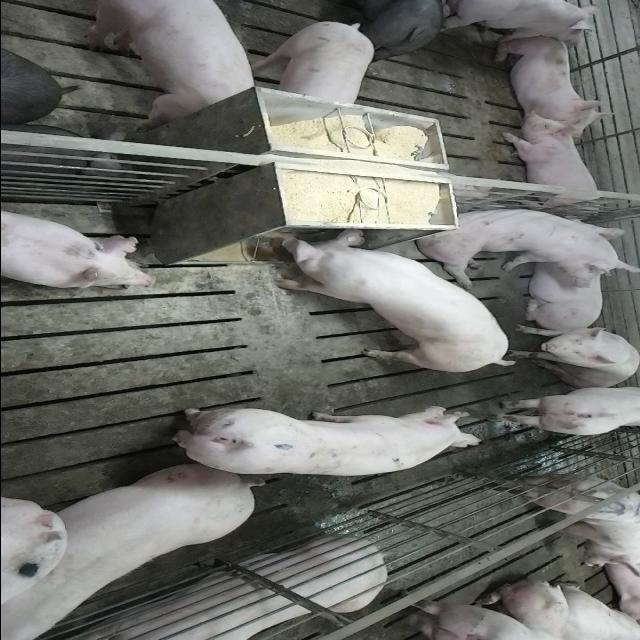Feeding: (262, 224, 510, 368)
Sitting: (408, 201, 636, 283), (512, 324, 639, 388)
Standing: (161, 405, 485, 479), (70, 2, 258, 124), (496, 468, 640, 570), (246, 19, 374, 105), (488, 384, 638, 438), (436, 0, 604, 43), (330, 0, 449, 60)
Sternal_lying: (61, 538, 390, 640), (492, 34, 616, 138), (0, 208, 155, 290), (512, 216, 618, 328), (500, 116, 610, 215)
